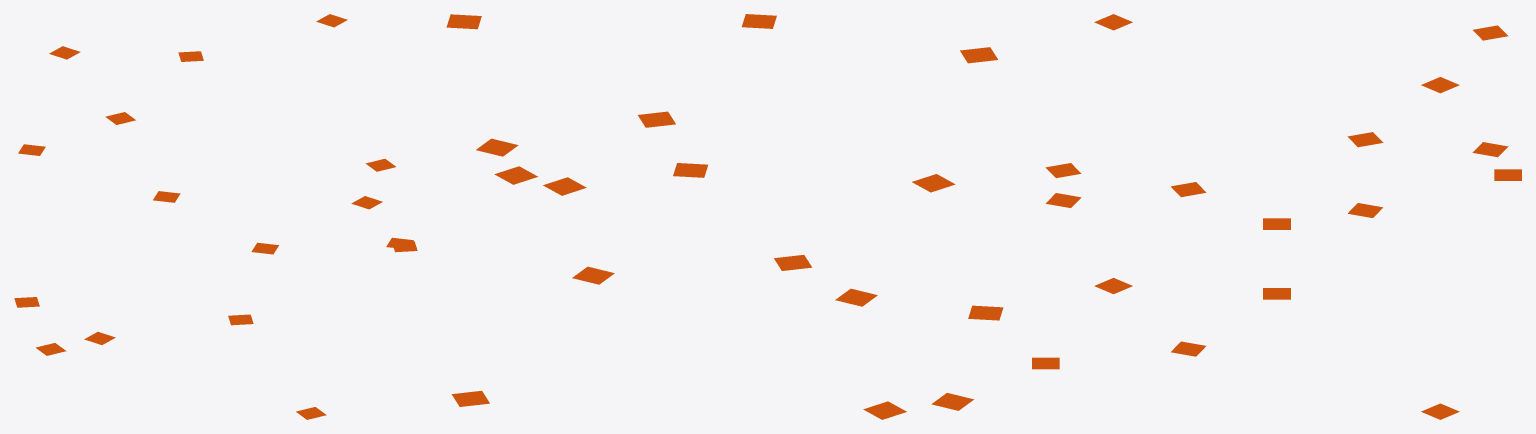
The model's file is Spark.glb.
3 renders of one model, left to right at view 1: azimuth 30°, elevation 25°; view 2: azimuth 150°, elevation 25°; view 3: azimuth 270°, elevation 25°, orthographic. The views are drawn at different scales.
Parts seen in each view (by area): view 1: Plane.002; view 2: Plane.002; view 3: Plane.002.
Part boxes in pixels (x1=…): Plane.002: x1=14, y1=14, x2=417, y2=419; Plane.002: x1=446, y1=14, x2=1003, y2=419; Plane.002: x1=1032, y1=14, x2=1521, y2=419.
Size of the model in its own units: 2.12 by 1.5 by 2.12.
